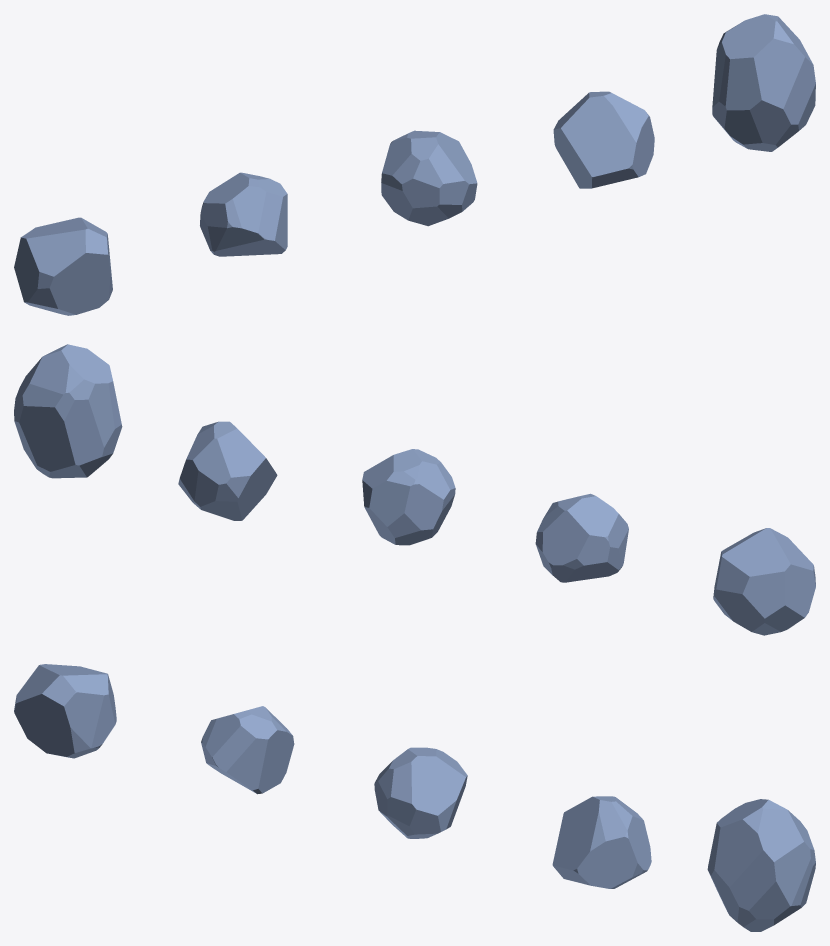
File: Asteroids(decoration).fbx
The picture shows the model from 3 angles, top to bottom: view 1: azimuth 30°, elevation 25°; view 2: azimuth 150°, elevation 25°; view 3: azimuth 330°, elevation 25°; orthographic projection. The views are drawn at different scales.
Parts seen in each view (by area): view 1: A, Icosphere.002, A1, Icosphere, Icosphere.001; view 2: A, Icosphere.002, Icosphere, A1, Icosphere.001; view 3: A, Icosphere.002, A1, Icosphere, Icosphere.001.
Boxes of the visible parts, x1=… form: A: x1=712, y1=14, x2=815, y2=151; Icosphere.002: x1=14, y1=217, x2=112, y2=315; A1: x1=553, y1=91, x2=654, y2=188; Icosphere: x1=381, y1=130, x2=477, y2=226; Icosphere.001: x1=200, y1=172, x2=287, y2=256; A: x1=14, y1=344, x2=122, y2=478; Icosphere.002: x1=713, y1=528, x2=815, y2=635; Icosphere: x1=362, y1=449, x2=455, y2=545; A1: x1=178, y1=421, x2=277, y2=520; Icosphere.001: x1=535, y1=493, x2=628, y2=582; A: x1=707, y1=799, x2=815, y2=931; Icosphere.002: x1=14, y1=664, x2=116, y2=758; A1: x1=552, y1=796, x2=651, y2=888; Icosphere: x1=374, y1=747, x2=467, y2=838; Icosphere.001: x1=201, y1=706, x2=294, y2=794.
Size of the model in its own units: 1169 by 184 by 138.
